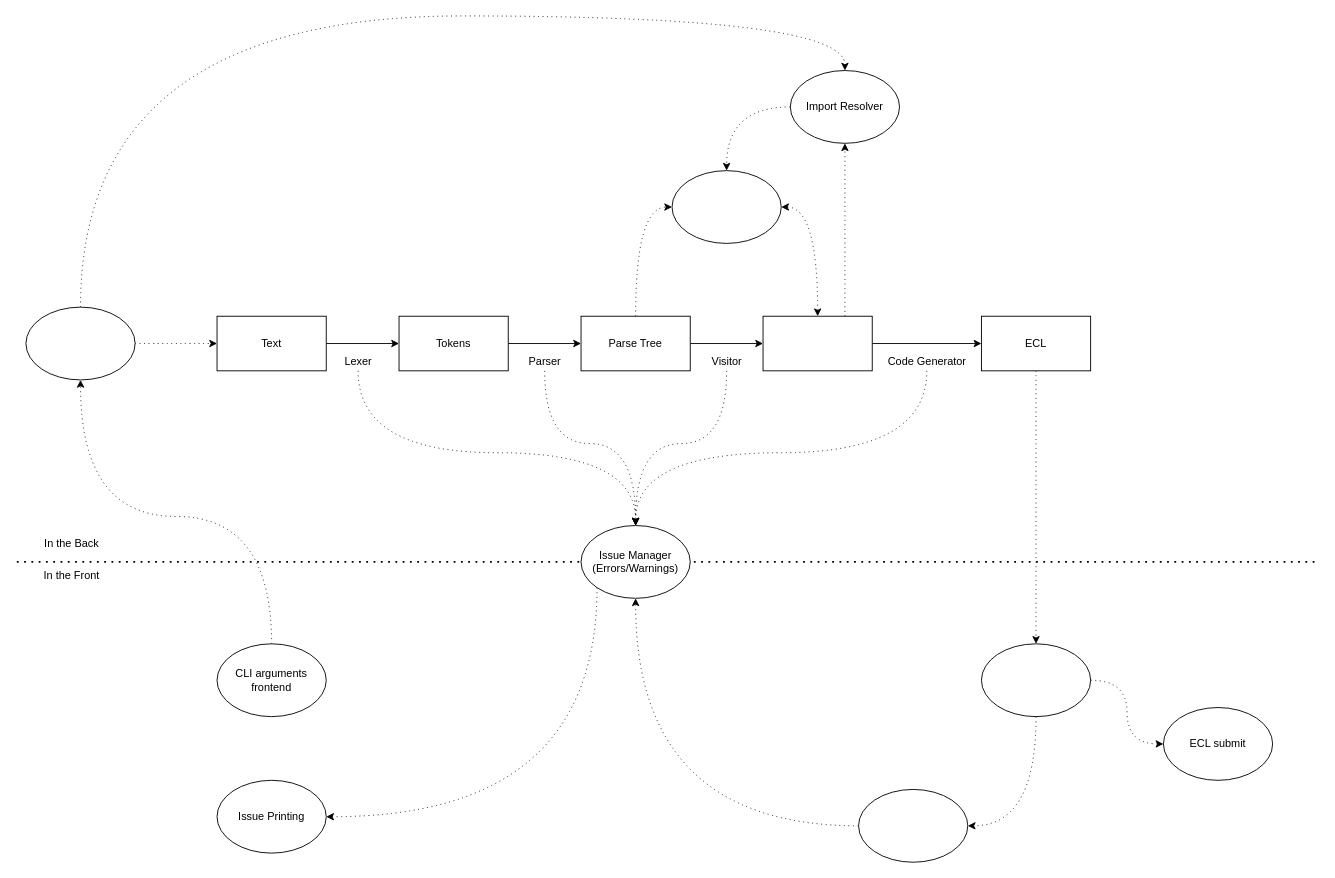
The diagram is 1335 pixels wide and 878 high, and some of its shapes have lost their labels. Here are the shapes that lost their labels. From the top down, the centre of each, then its label:
the point at 726,206: Variable Table
the point at 80,343: File Manager
the point at 817,343: Abstract Syntax Tree
the point at 1036,680: Writer
the point at 913,825: ECL syntax check
